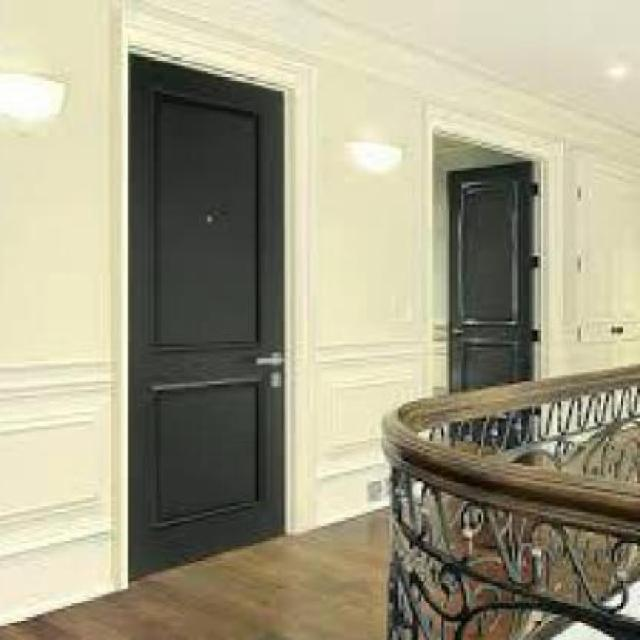door_handle: (243, 347, 284, 376)
